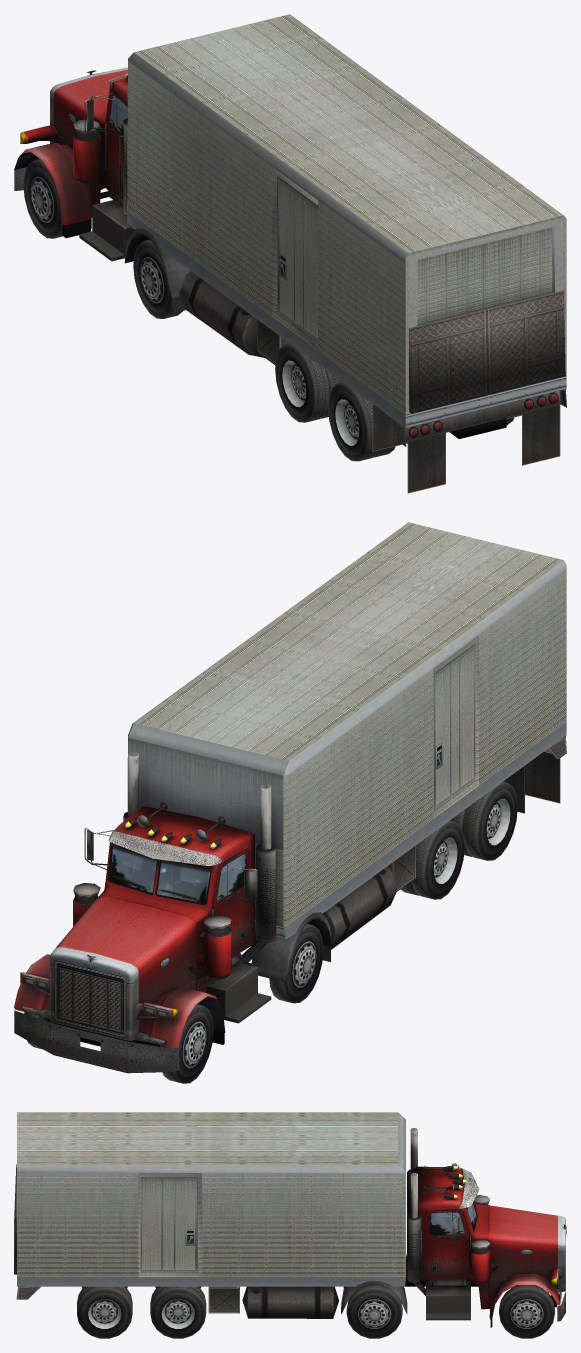
The model's file is truck_candidate_01.glb.
3 renders of one model, top to bottom at view 1: azimuth 30°, elevation 25°; view 2: azimuth 150°, elevation 25°; view 3: azimuth 270°, elevation 25°, orthographic. The views are drawn at different scales.
Visible parts, largest first — view 1: Object_3, Object_2, Object_6, Object_5; view 2: Object_3, Object_2, Object_6, Object_4, Object_5; view 3: Object_3, Object_2, Object_6, Object_5, Object_4.
Boxes of the visible parts, left/top/right/bottom form: Object_3: left=124, top=14, right=566, bottom=446; Object_2: left=14, top=67, right=560, bottom=493; Object_6: left=23, top=159, right=514, bottom=461; Object_5: left=30, top=176, right=359, bottom=445; Object_3: left=127, top=522, right=566, bottom=981; Object_2: left=14, top=752, right=560, bottom=1073; Object_6: left=24, top=781, right=517, bottom=1083; Object_4: left=109, top=821, right=246, bottom=903; Object_5: left=182, top=798, right=510, bottom=1068; Object_3: left=14, top=1112, right=407, bottom=1314; Object_2: left=242, top=1128, right=566, bottom=1327; Object_6: left=77, top=1285, right=554, bottom=1338; Object_5: left=88, top=1299, right=543, bottom=1328; Object_4: left=429, top=1165, right=476, bottom=1235.
Size of the model in its own units: 2.71 by 3.78 by 10.83.
5 materials, 5 textured.
